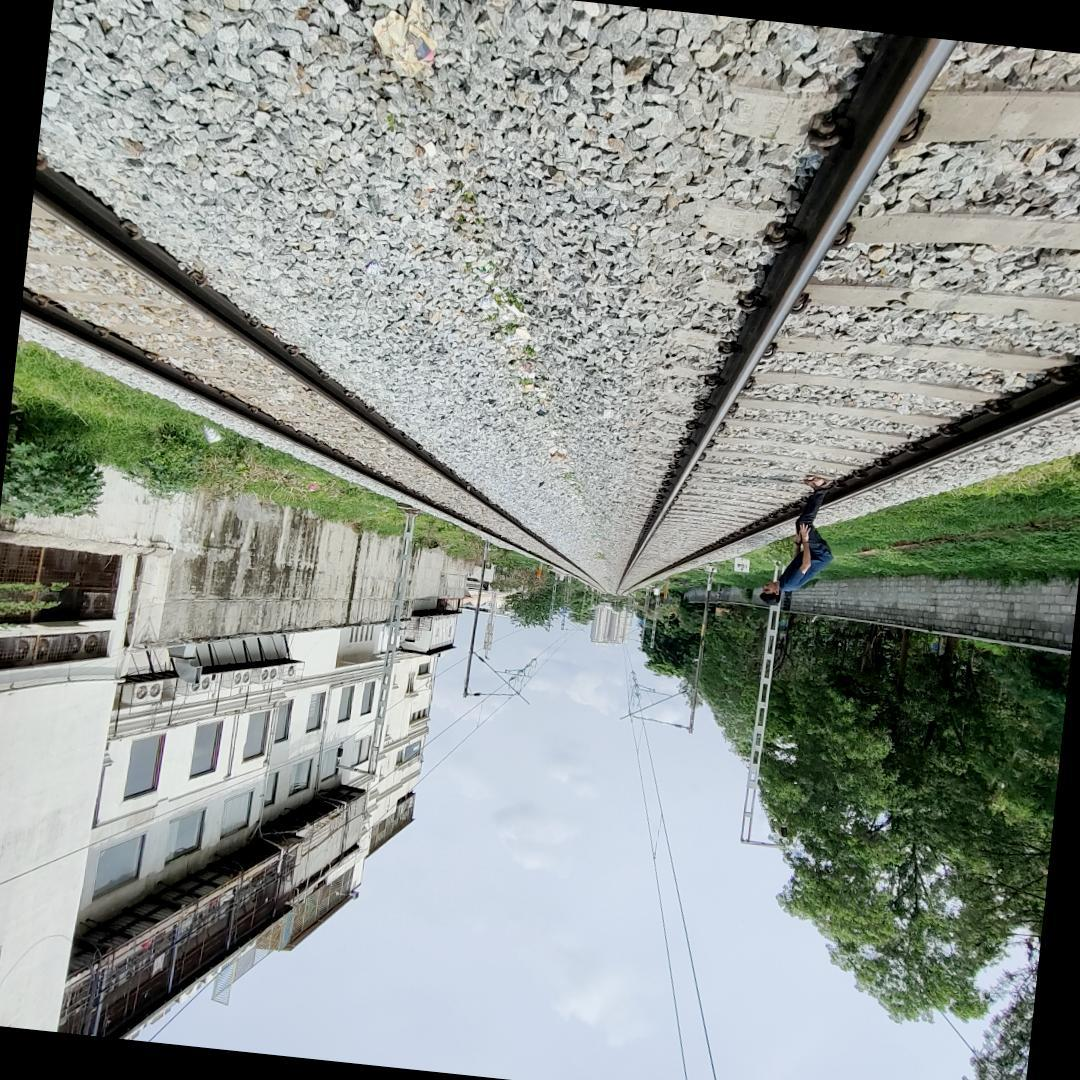standing: (752, 464, 839, 607)
track: (619, 34, 1080, 602)
